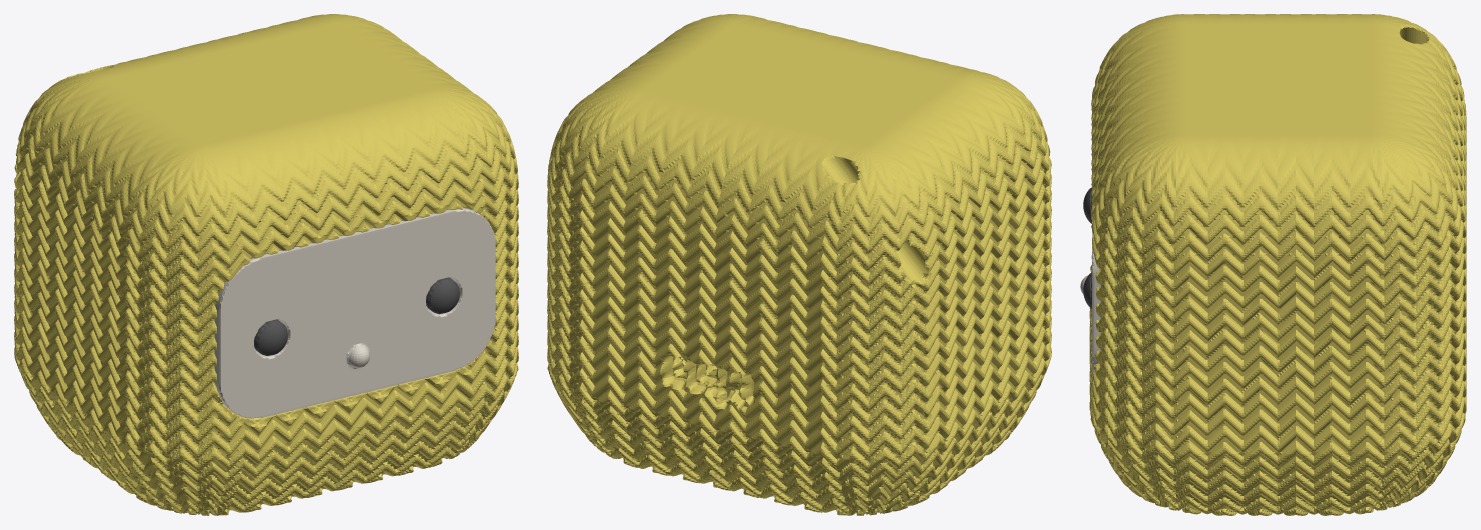
File: bloki_crochet.glb
The picture shows the model from 3 angles, left to right: view 1: azimuth 30°, elevation 25°; view 2: azimuth 150°, elevation 25°; view 3: azimuth 270°, elevation 25°; orthographic projection.
Parts seen in each view (by area): view 1: geometry_0, geometry_1, geometry_2; view 2: geometry_0; view 3: geometry_0, geometry_1, geometry_2.
Part boxes in pixels (x1,y1,x2,y2): geometry_0: [14, 14, 518, 515]; geometry_1: [214, 208, 495, 418]; geometry_2: [254, 277, 459, 355]; geometry_0: [547, 14, 1051, 515]; geometry_0: [1089, 14, 1466, 515]; geometry_1: [1080, 222, 1100, 376]; geometry_2: [1083, 187, 1091, 308].
Bounding box in the file's own units: 36.12 × 31.88 × 30.71.
